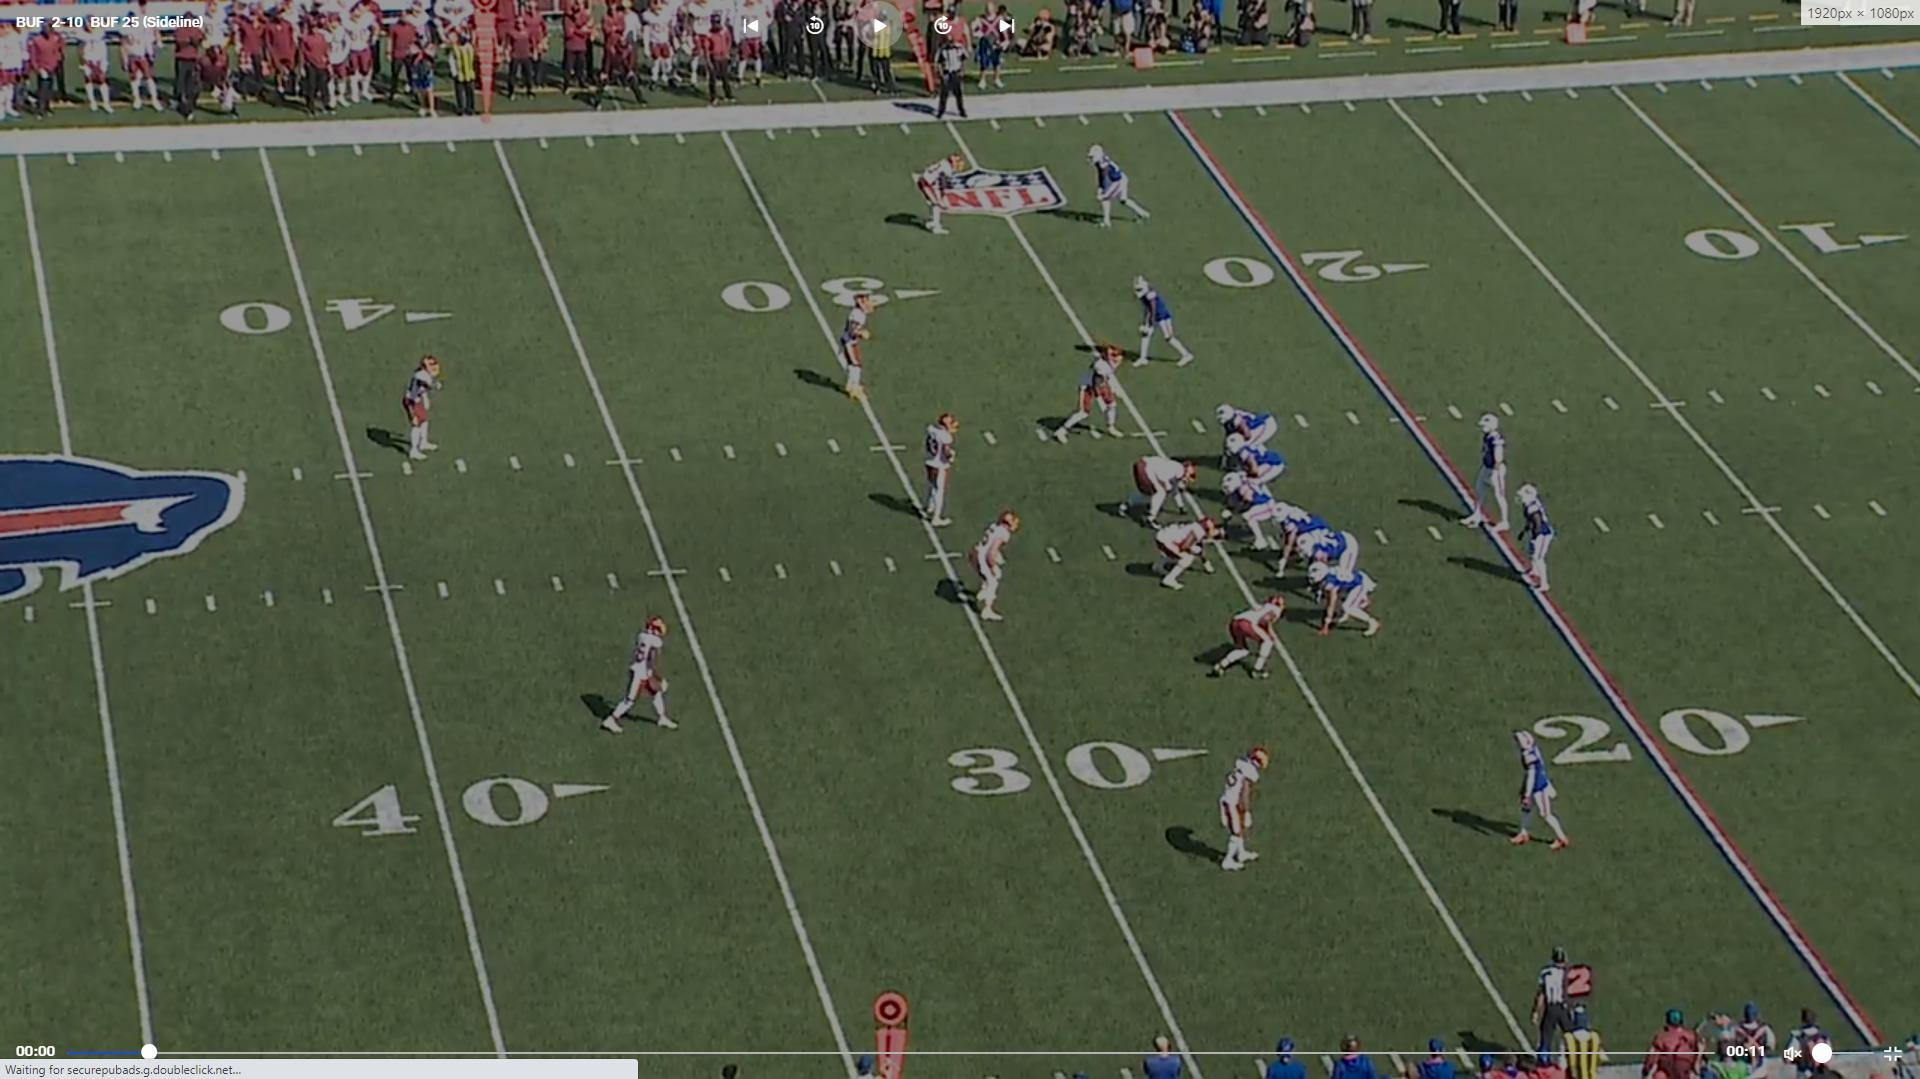player: (601, 612, 678, 735), (1504, 726, 1575, 855), (1219, 744, 1280, 880), (1051, 340, 1127, 447), (1132, 273, 1203, 372), (1213, 592, 1288, 680), (1080, 143, 1153, 231), (1314, 561, 1387, 639), (972, 511, 1020, 629), (921, 410, 967, 533), (1467, 410, 1512, 533), (1120, 454, 1200, 522), (402, 355, 450, 465), (1151, 516, 1219, 593), (1219, 468, 1282, 549), (837, 290, 879, 409), (1519, 477, 1561, 596), (1270, 502, 1330, 579), (918, 149, 967, 239), (1219, 400, 1282, 470), (1304, 527, 1364, 599), (1226, 437, 1289, 490)
ref: (1528, 939, 1589, 1055), (934, 39, 972, 122)
